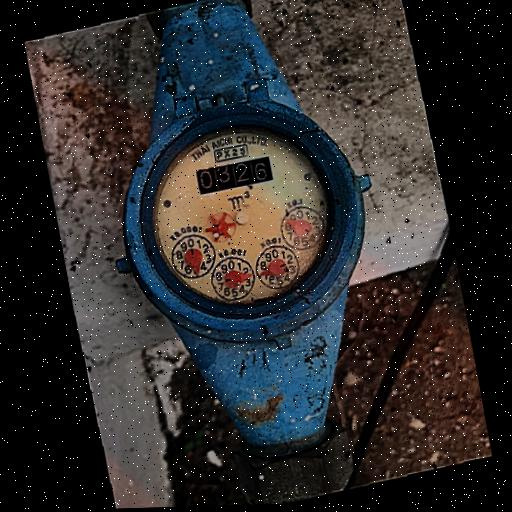0: (196, 167, 218, 194)
2: (233, 161, 253, 186)
3: (215, 163, 236, 191)
6: (250, 156, 273, 183)
border_water_meter_number: (195, 154, 273, 196)
